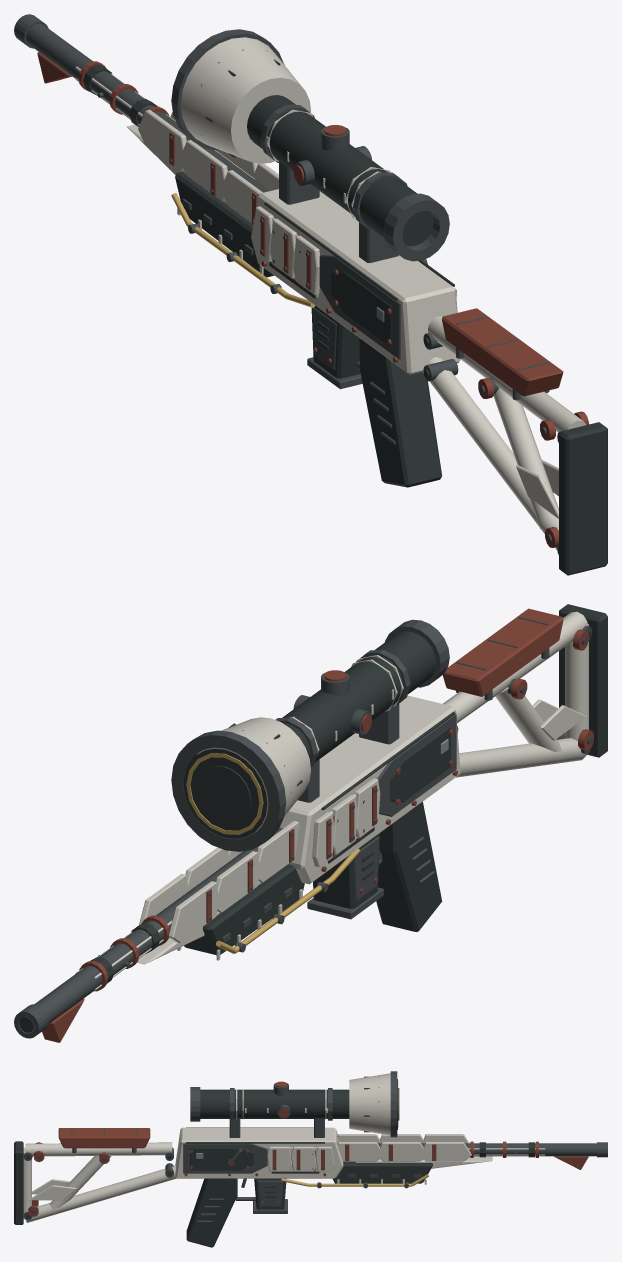
Rendered from sniper_0.glb.
The picture shows the model from 3 angles, top to bottom: view 1: azimuth 30°, elevation 25°; view 2: azimuth 150°, elevation 25°; view 3: azimuth 270°, elevation 25°; orthographic projection. The views are drawn at different scales.
Visible parts, largest first — view 1: Weapon_sniper_v1; view 2: Weapon_sniper_v1; view 3: Weapon_sniper_v1.
Part boxes in pixels (left/top/right/bottom): Weapon_sniper_v1: left=14, top=14, right=607, bottom=575; Weapon_sniper_v1: left=14, top=604, right=607, bottom=1042; Weapon_sniper_v1: left=14, top=1071, right=607, bottom=1247.
Bounding box in the file's own units: 0.122 × 0.3431 × 1.09.
